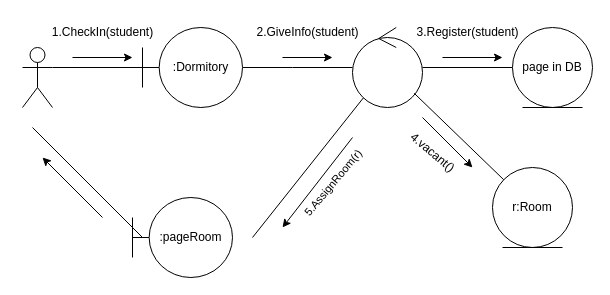
This 610x295 diagram has some shape labels left out. The centre of each missing label's shape, as x and y in pixels:
:Staff: (387,67)
Student: (37,77)
